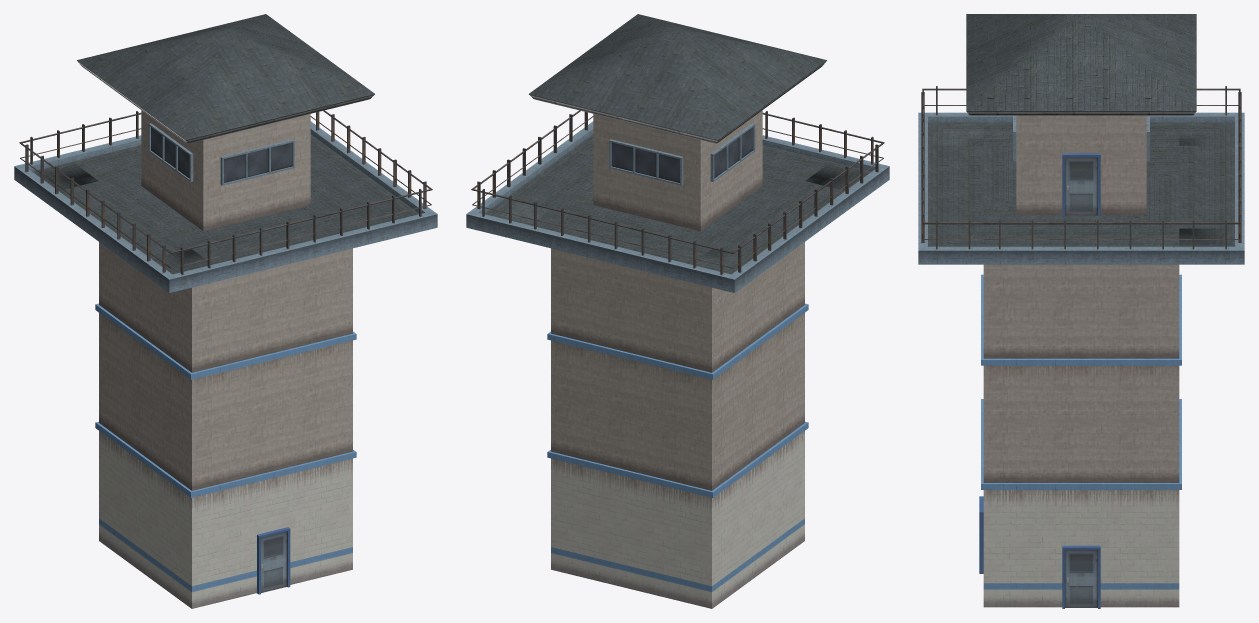
Rendered from watchtower.glb.
3 views of the same model, side by side, from view 1: azimuth 30°, elevation 25°; view 2: azimuth 150°, elevation 25°; view 3: azimuth 270°, elevation 25° (orthographic). The views are drawn at different scales.
Parts seen in each view (by area): view 1: watchtower_building_Prison_atlas_0; view 2: watchtower_building_Prison_atlas_0; view 3: watchtower_building_Prison_atlas_0.
Boxes of the visible parts, x1,y1,x2,y2 form: watchtower_building_Prison_atlas_0: [14, 14, 437, 608]; watchtower_building_Prison_atlas_0: [466, 14, 889, 608]; watchtower_building_Prison_atlas_0: [918, 14, 1244, 608].
Bounding box in the file's own units: 10 × 18.66 × 10.
1 material, 1 textured.
